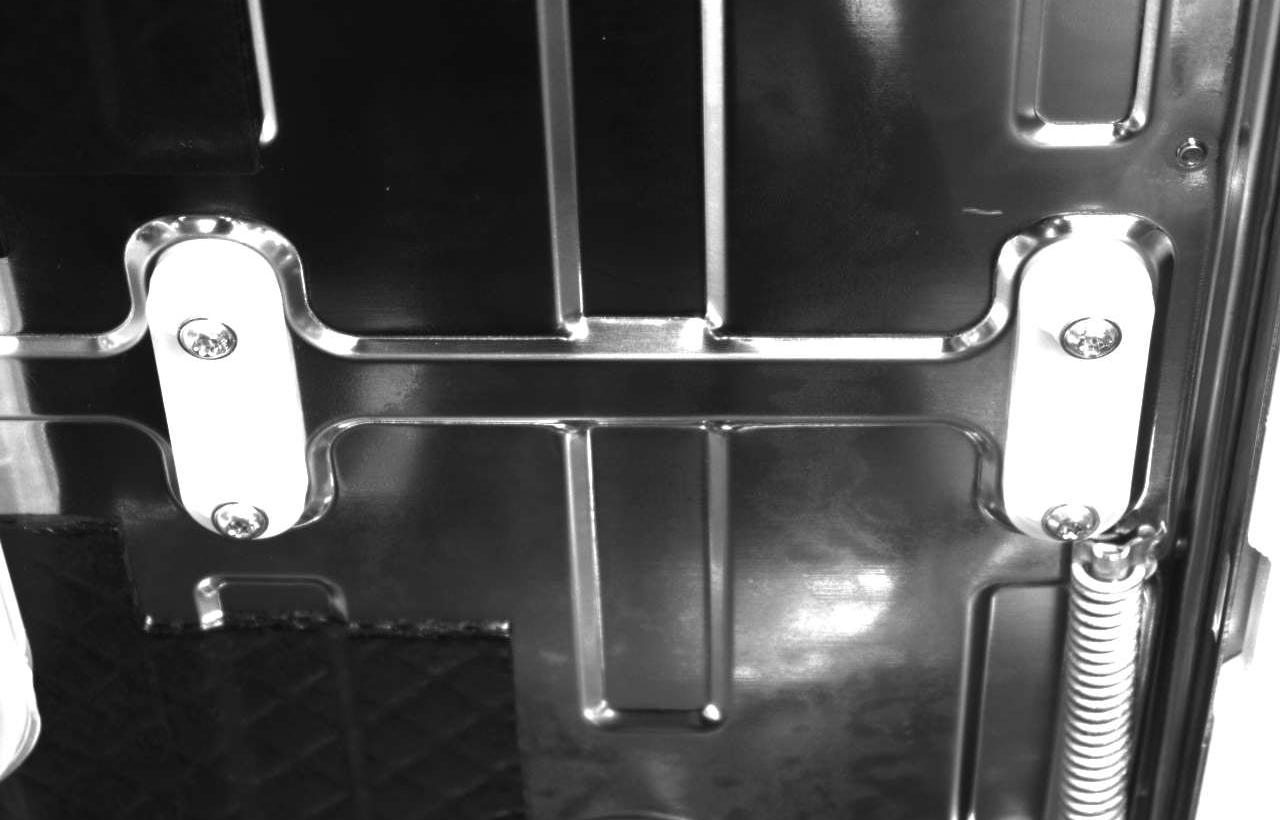vida-ok: (171, 297, 257, 375), (1049, 299, 1137, 372), (205, 489, 286, 553), (1030, 485, 1105, 543)
